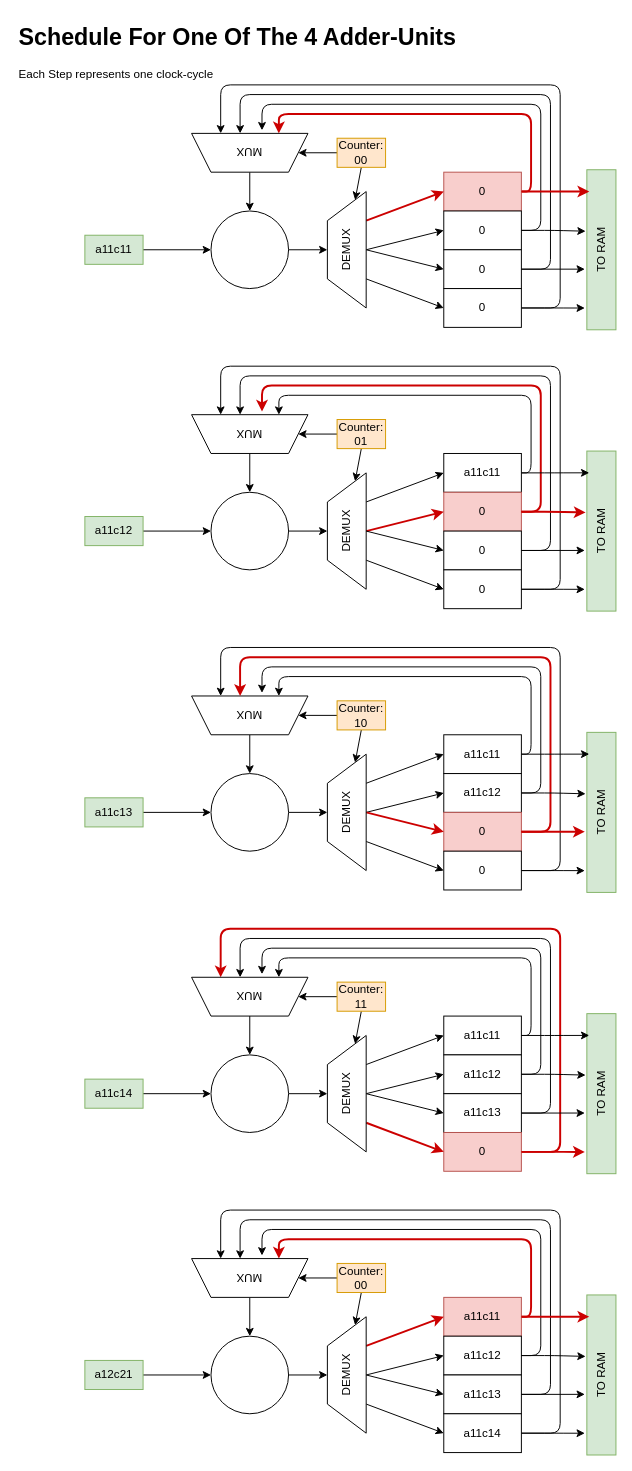
The diagram is 632 pixels wide and 1471 high, and some of its shapes have lost their labels. Each missing label, with the centre of its shape:
"a11c11 + 0" goes at (x=249, y=249).
"a11c12 + 0" goes at (x=249, y=530).
"a11c13 + 0" goes at (x=249, y=812).
"a11c14 + 0" goes at (x=249, y=1093).
"a12c21 + a11c11" goes at (x=249, y=1374).
